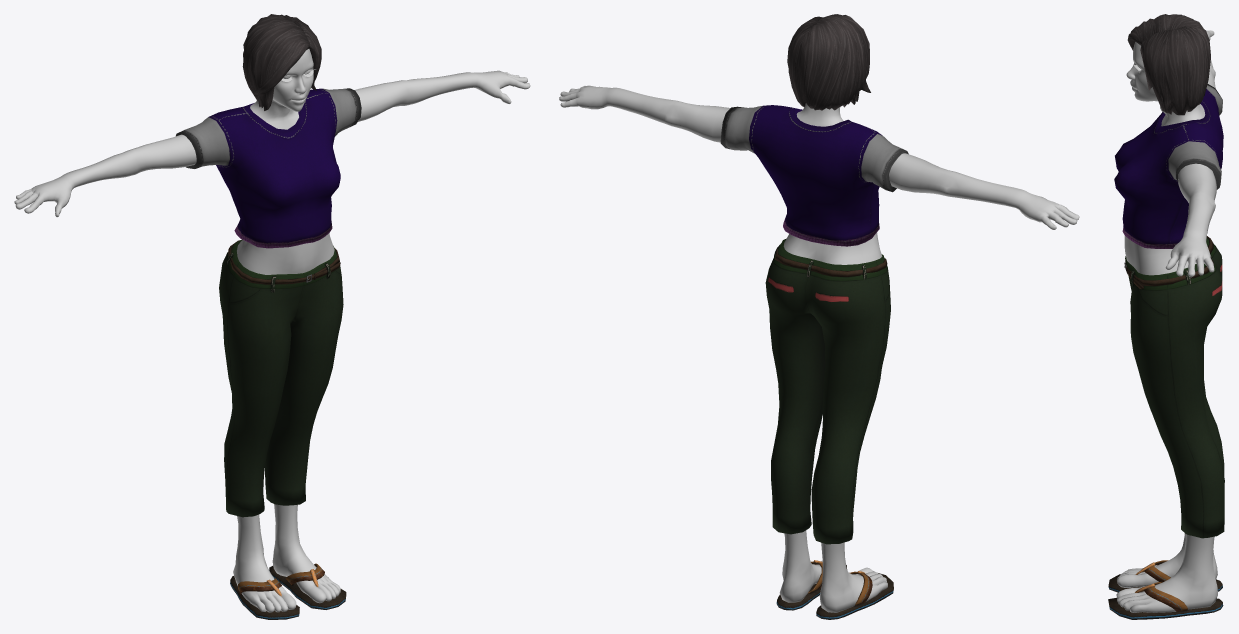
File: NPC9.obj
3 renders of one model, left to right at view 1: azimuth 30°, elevation 25°; view 2: azimuth 150°, elevation 25°; view 3: azimuth 270°, elevation 25°, orthographic.
Visible parts, largest first — view 1: Bottoms, Body, Tops, Hair, Shoes; view 2: Bottoms, Body, Tops, Hair, Shoes; view 3: Bottoms, Body, Tops, Hair, Shoes.
Part boxes in pixels (left/top/right/bottom): Bottoms: left=219, top=239, right=343, bottom=517; Body: left=14, top=49, right=530, bottom=612; Tops: left=176, top=88, right=361, bottom=248; Hair: left=242, top=14, right=321, bottom=110; Shoes: left=230, top=563, right=346, bottom=619; Bottoms: left=765, top=239, right=890, bottom=544; Body: left=559, top=85, right=1079, bottom=612; Tops: left=720, top=105, right=908, bottom=246; Hair: left=787, top=14, right=870, bottom=110; Shoes: left=776, top=560, right=893, bottom=619; Bottoms: left=1124, top=236, right=1224, bottom=538; Body: left=1116, top=30, right=1217, bottom=612; Tops: left=1114, top=84, right=1223, bottom=248; Hair: left=1127, top=14, right=1210, bottom=115; Shoes: left=1108, top=560, right=1223, bottom=619.
Bounding box in the file's own units: 163 × 174 × 31.78.
